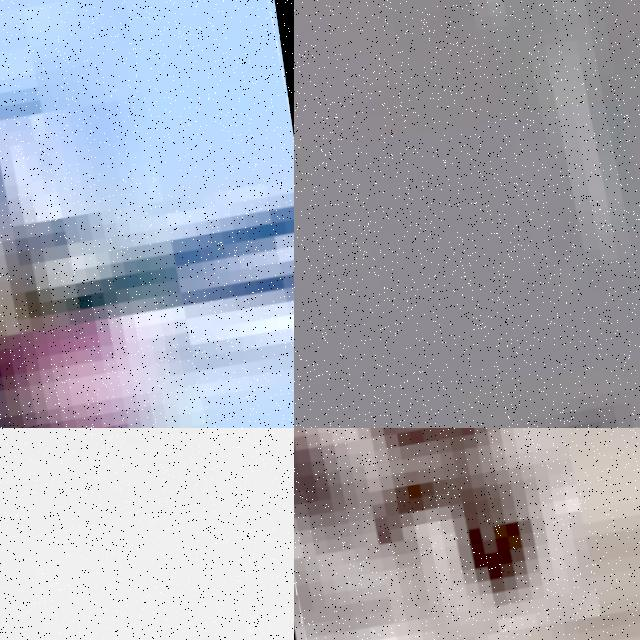0: (0, 0, 294, 428), (294, 428, 640, 640)
drone: (294, 0, 640, 428), (0, 428, 294, 640)
